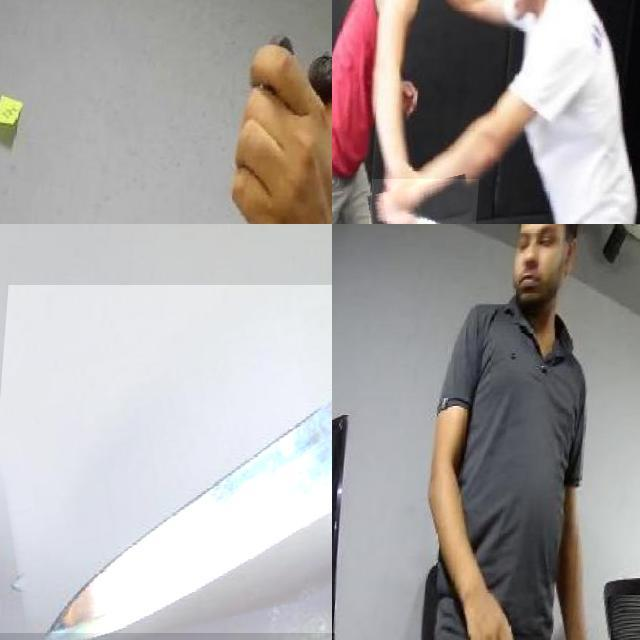-: (0, 285, 332, 632), (372, 179, 484, 224)
